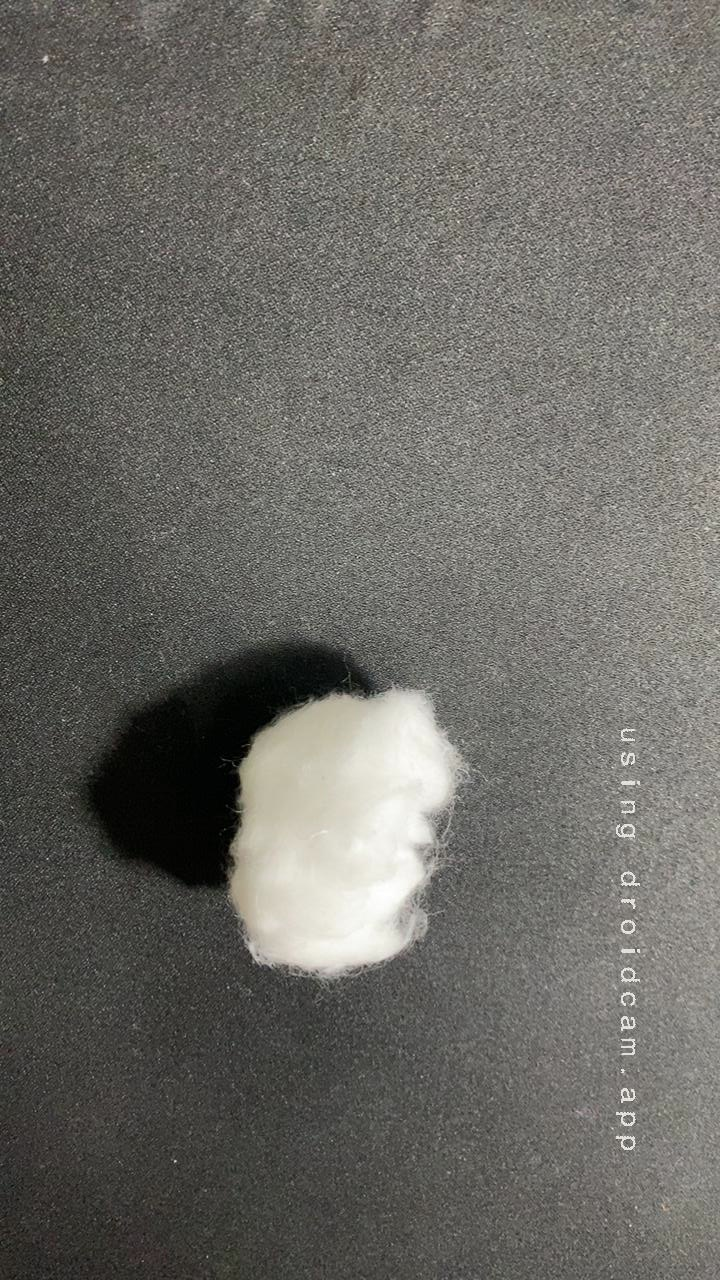cotton: (195, 664, 505, 998)
